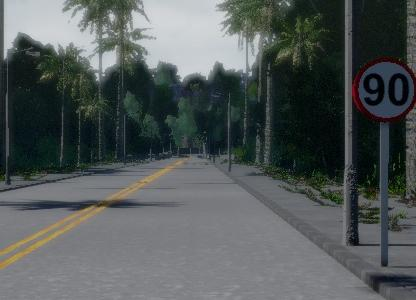Speed_90: (353, 49, 416, 126)
